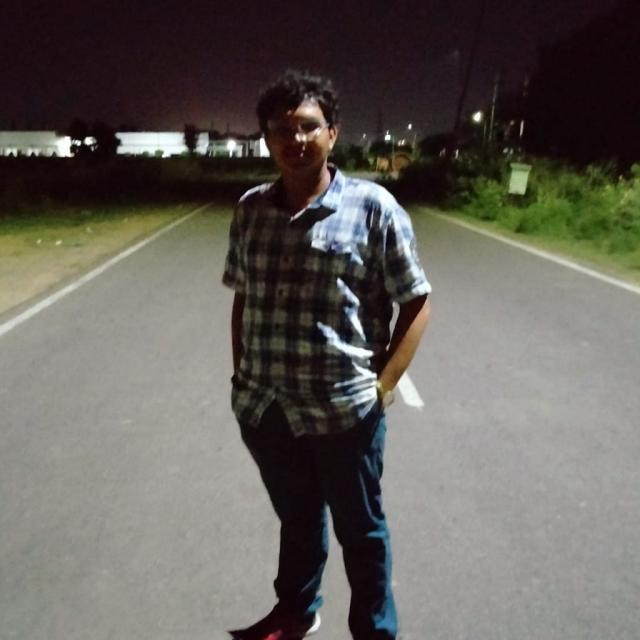Animals: (181, 48, 434, 433)
